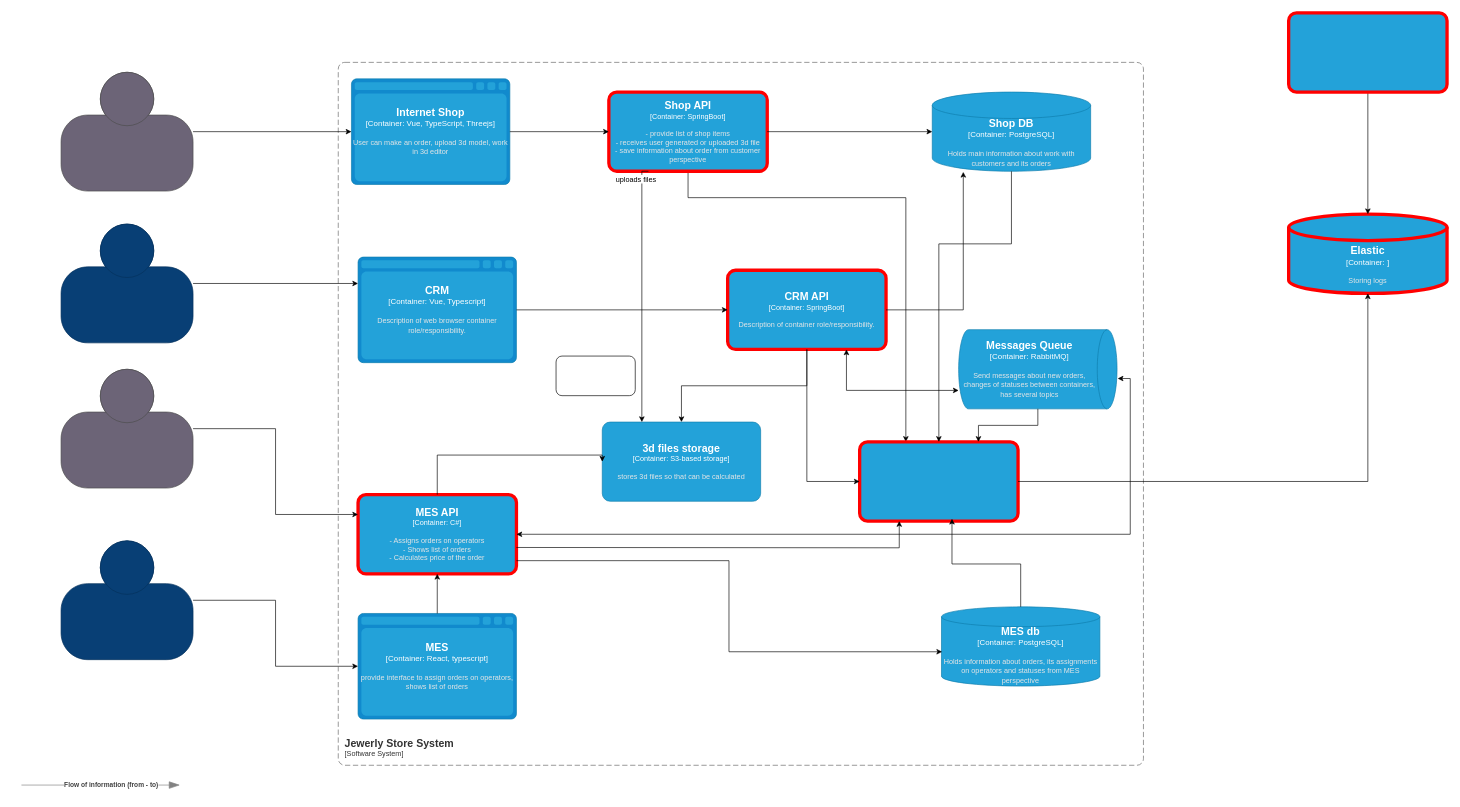
Some shapes in this 1460 by 807 pixel diagram are drawn without their labels. The centre of each missing label's shape, as x and y in pixels:
"API user [Person] Description of external person." belongs at point (126, 428).
"Customer [Person] Description of external person." belongs at point (126, 131).
"Kibana [Container: ] Visualisation" belongs at point (1367, 52).
"Logstash [Container: ]" belongs at point (938, 481).
"Operator [Person] Takes order in work, manufactures jewerly" belongs at point (126, 600).
"Seller [Person] Operates with order, confirms manufacturing for the user" belongs at point (126, 283).
